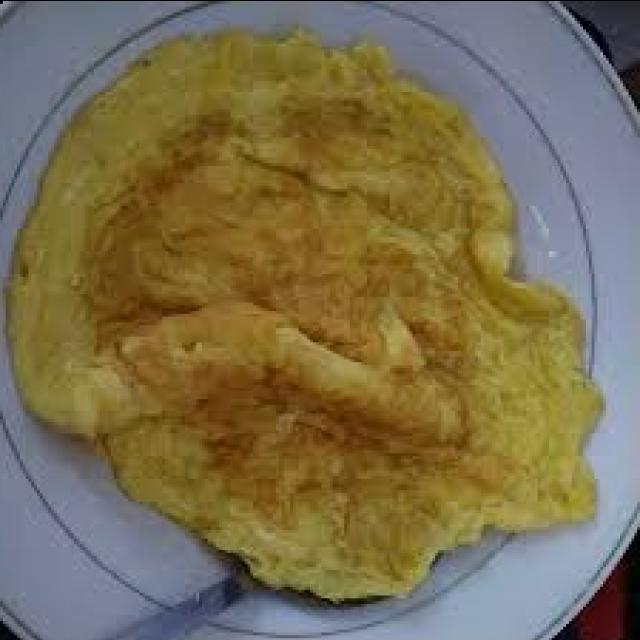telur dadar: (0, 0, 609, 609)
